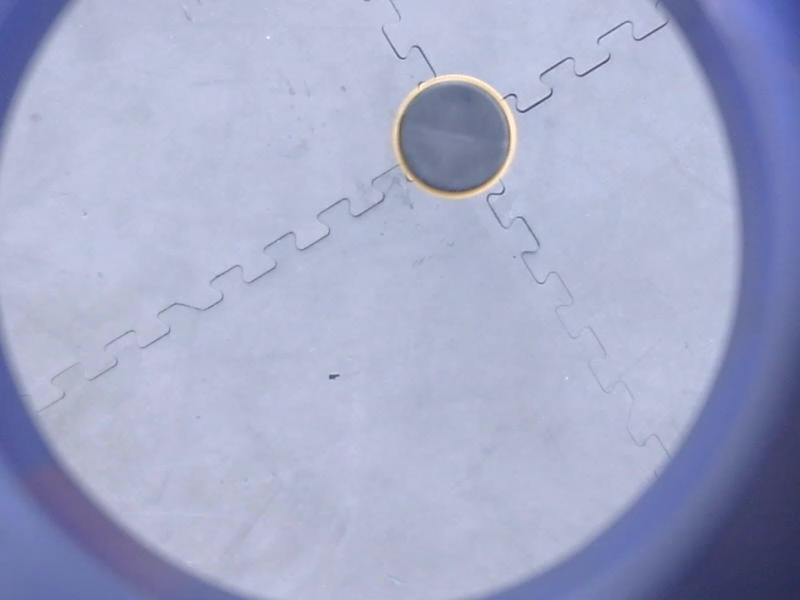tip: (384, 66, 528, 209)
